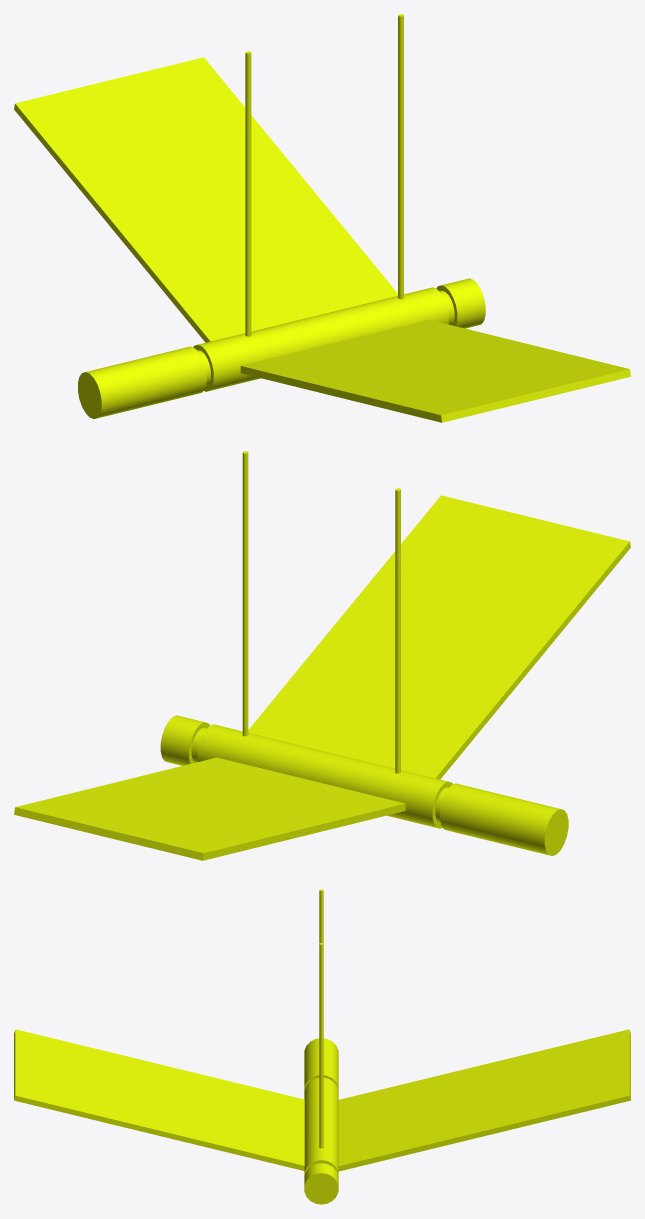
Rendered from Light_3.FBX.
The picture shows the model from 3 angles, top to bottom: view 1: azimuth 30°, elevation 25°; view 2: azimuth 150°, elevation 25°; view 3: azimuth 270°, elevation 25°; orthographic projection. The views are drawn at different scales.
Visible parts, largest first — view 1: studyroom light; view 2: studyroom light; view 3: studyroom light.
Boxes of the visible parts, bbox=[...] form: studyroom light: bbox=[14, 14, 630, 422]; studyroom light: bbox=[14, 451, 630, 860]; studyroom light: bbox=[14, 889, 630, 1204].
Size of the model in its own units: 0.7873 by 0.6389 by 1.52.
